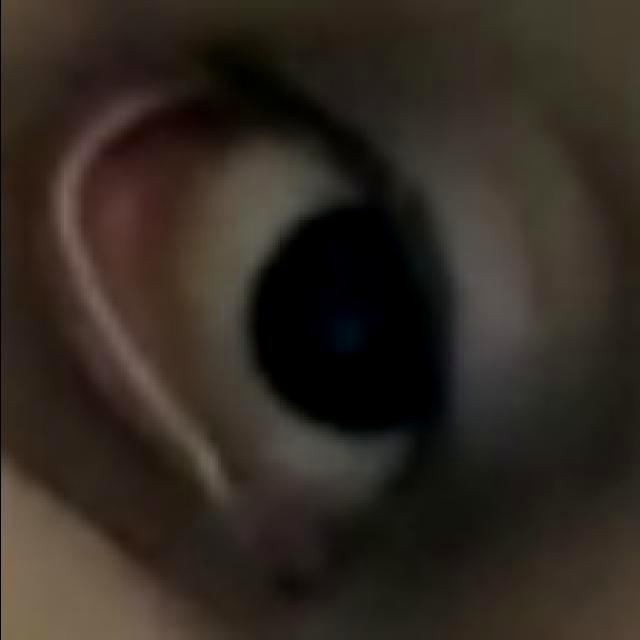conjunctiva_pallor: (69, 110, 247, 472)
